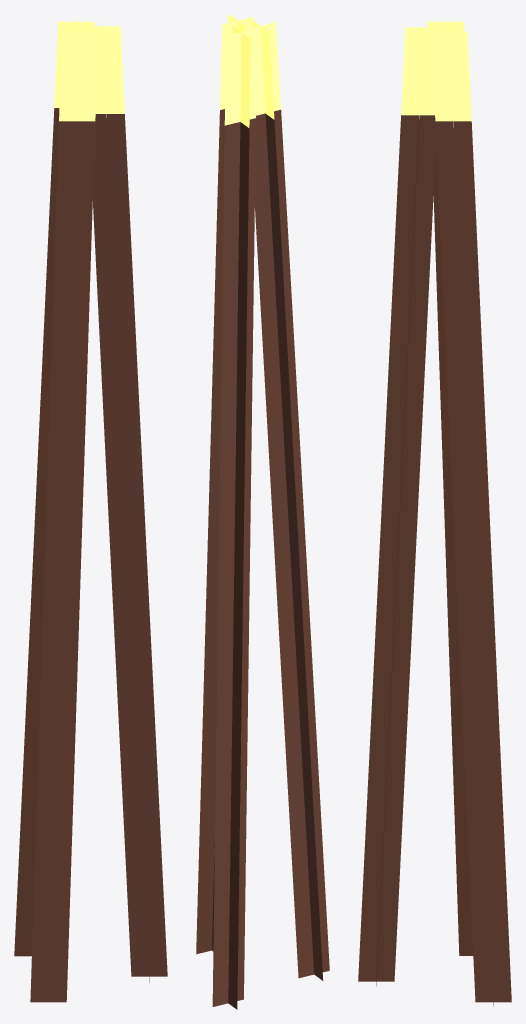
Rendered from NhangDangChay.glb.
The picture shows the model from 3 angles, left to right: view 1: azimuth 90°, elevation 25°; view 2: azimuth 210°, elevation 25°; view 3: azimuth 270°, elevation 25°; orthographic projection.
Parts seen in each view (by area): view 1: NhangDangChay_Que; view 2: NhangDangChay_Que; view 3: NhangDangChay_Que.
Boxes of the visible parts, x1,y1,x2,y2 form: NhangDangChay_Que: (14, 15, 167, 1002); NhangDangChay_Que: (196, 14, 329, 1009); NhangDangChay_Que: (358, 21, 511, 1006).
Bounding box in the file's own units: 0.036 × 0.26 × 0.038.
